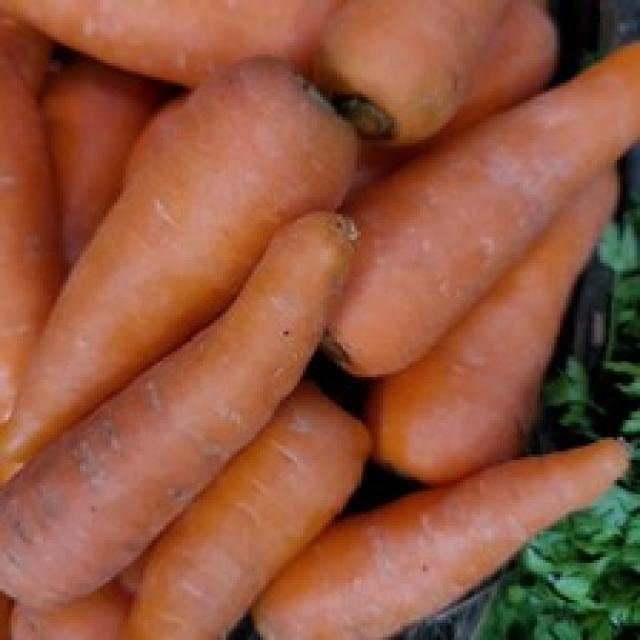Fresh_Carrot: (11, 71, 364, 488)
